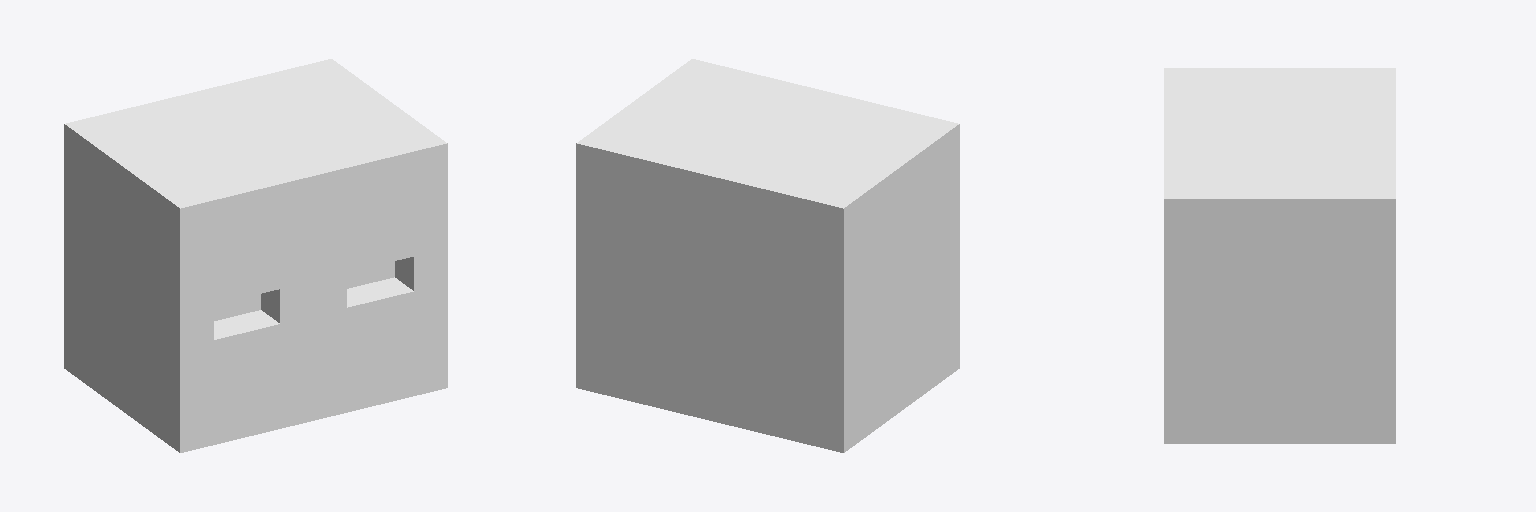
File: Character_01_OMGDC_head.obj
3 renders of one model, left to right at view 1: azimuth 30°, elevation 25°; view 2: azimuth 150°, elevation 25°; view 3: azimuth 270°, elevation 25°, orthographic.
Parts seen in each view (by area): view 1: object 1; view 2: object 1; view 3: object 1.
Part boxes in pixels (x1,y1,x2,y2): object 1: (64, 59, 447, 452); object 1: (576, 59, 959, 452); object 1: (1164, 68, 1395, 443).
Bounding box in the file's own units: 0.8 × 0.7 × 0.6.